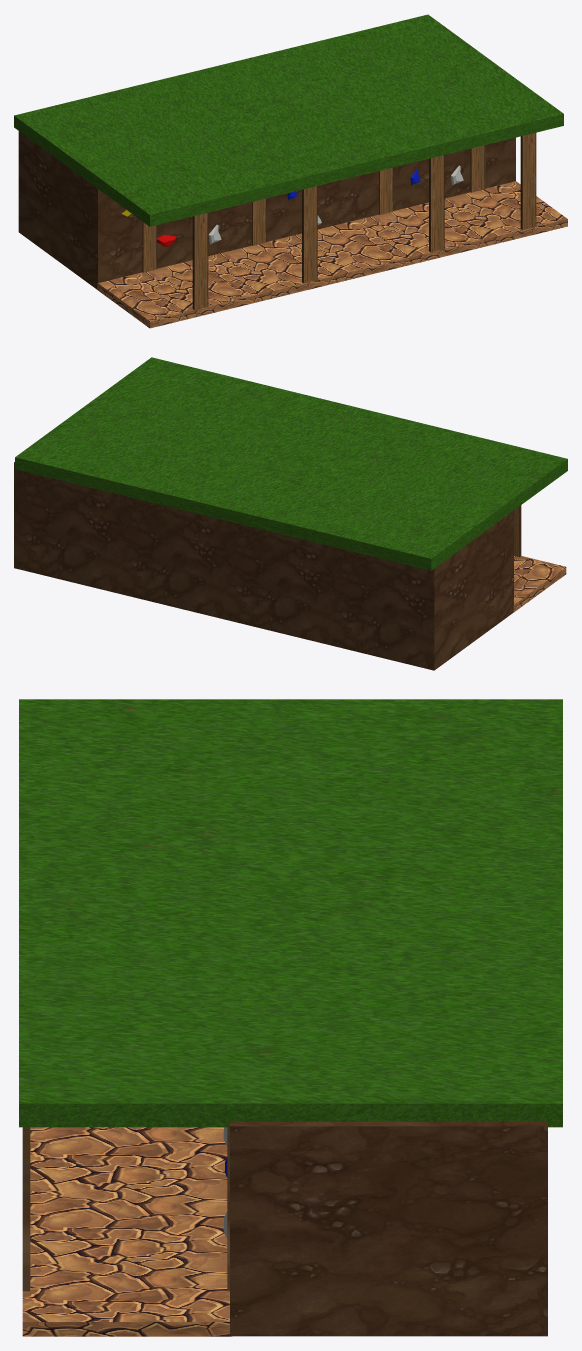
The model's file is Cave.FBX.
3 views of the same model, one above another, from view 1: azimuth 30°, elevation 25°; view 2: azimuth 150°, elevation 25°; view 3: azimuth 270°, elevation 25° (orthographic). The views are drawn at different scales.
Visible parts, largest first — view 1: Box012, Box001, Box003, Box015, Box011, Box005, Box008, Box013, Box009, Box002, Box006; view 2: Box012, Box001, Box003; view 3: Box012, Box001, Box003, Box015.
Boxes of the visible parts, x1,y1,x2,y2 form: Box012: (14, 14, 563, 226); Box001: (18, 131, 515, 289); Box003: (97, 181, 567, 328); Box015: (520, 132, 536, 229); Box011: (192, 213, 208, 309); Box005: (429, 155, 444, 252); Box008: (302, 186, 317, 283); Box013: (470, 145, 485, 192); Box009: (142, 222, 156, 272); Box002: (379, 167, 393, 214); Box006: (252, 198, 266, 245); Box012: (15, 357, 567, 570); Box001: (14, 462, 513, 670); Box003: (513, 556, 566, 612); Box012: (19, 699, 562, 1127); Box001: (230, 1121, 547, 1336); Box003: (22, 1127, 231, 1336); Box015: (22, 1127, 30, 1291).
Bounding box in the file's own units: 347 × 95.06 × 195.
Materials: 9 (4 with a texture image).
